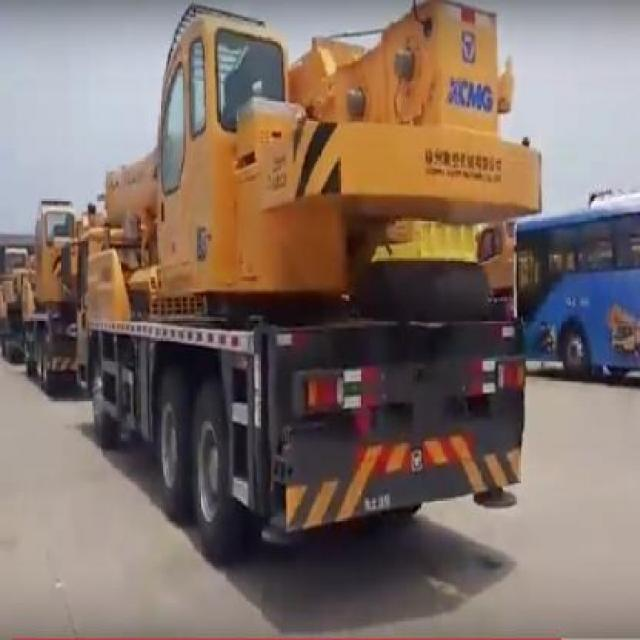Mobile Crane: (80, 1, 545, 557)
